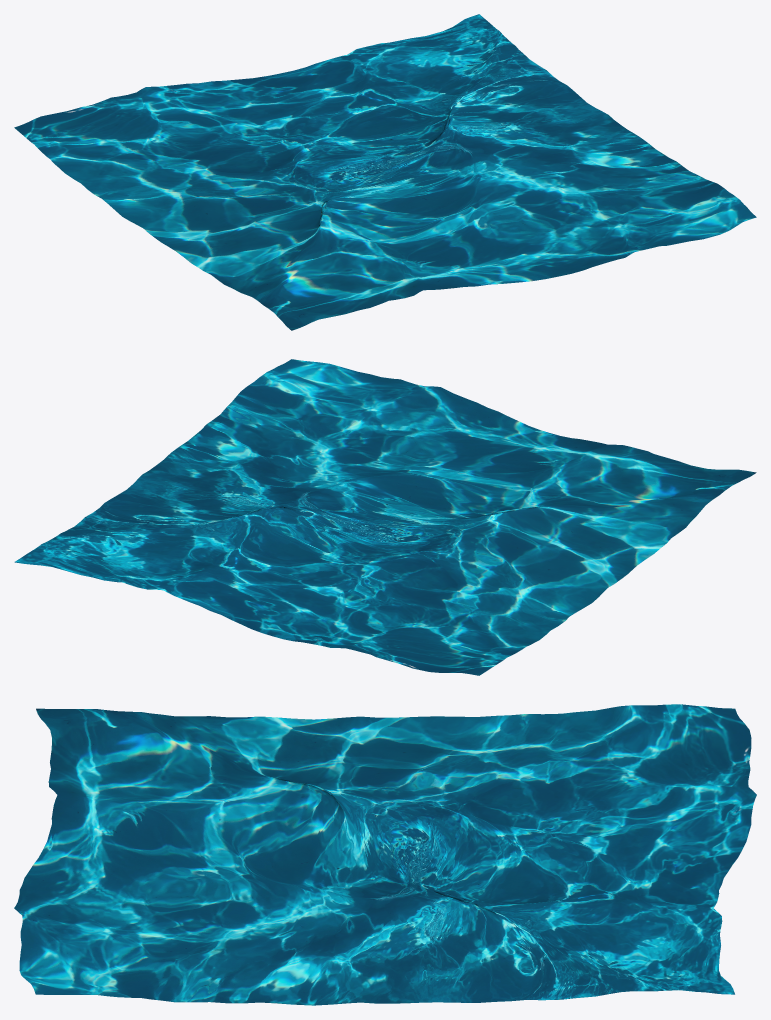
File: Water.obj
The picture shows the model from 3 angles, top to bottom: view 1: azimuth 30°, elevation 25°; view 2: azimuth 150°, elevation 25°; view 3: azimuth 270°, elevation 25°; orthographic projection. The views are drawn at different scales.
Parts seen in each view (by area): view 1: Water_Plane; view 2: Water_Plane; view 3: Water_Plane.
Part boxes in pixels (x1,y1,x2,y2): Water_Plane: (14, 14, 756, 330); Water_Plane: (14, 359, 756, 675); Water_Plane: (14, 704, 756, 1005).
Size of the model in its own units: 41.2 by 1.36 by 44.12.
Materials: 1 (1 with a texture image).
